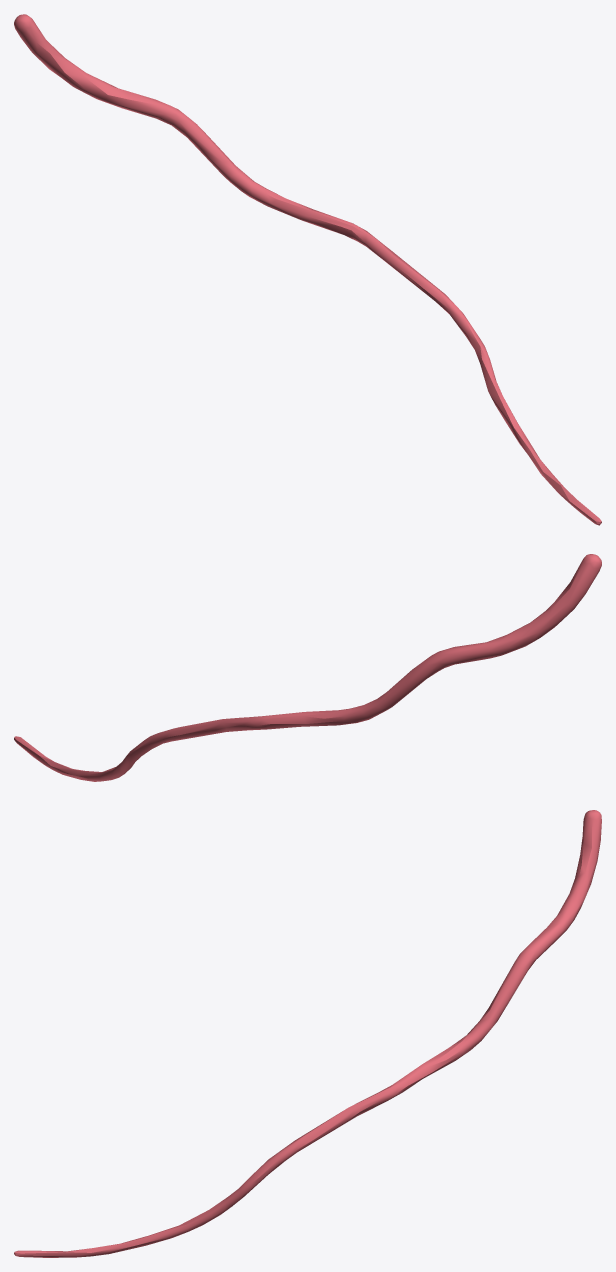
The model's file is fma3895_fj3661.glb.
The picture shows the model from 3 angles, top to bottom: view 1: azimuth 30°, elevation 25°; view 2: azimuth 210°, elevation 25°; view 3: azimuth 270°, elevation 25°; orthographic projection. The views are drawn at different scales.
Visible parts, largest first — view 1: FMA3895_FJ3661; view 2: FMA3895_FJ3661; view 3: FMA3895_FJ3661.
Part boxes in pixels (left/top/right/bottom): FMA3895_FJ3661: left=14, top=14, right=601, bottom=525; FMA3895_FJ3661: left=14, top=554, right=601, bottom=781; FMA3895_FJ3661: left=14, top=810, right=601, bottom=1257.
Size of the model in its own units: 0.0285 by 0.0333 by 0.0545.
